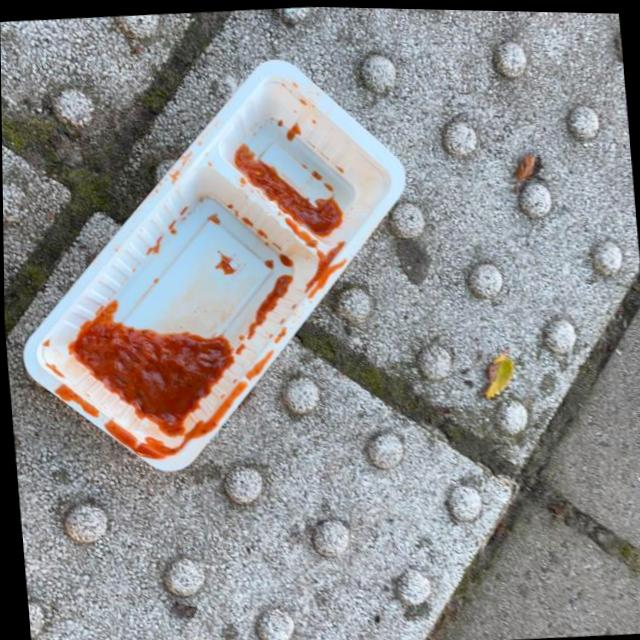Plastic: (0, 39, 436, 491)
